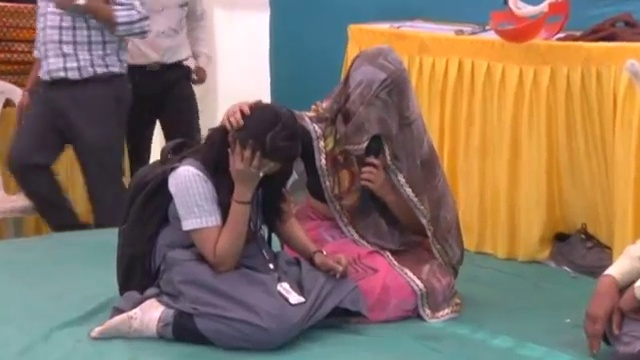helmet_off: (221, 98, 310, 191), (340, 48, 419, 141)
person: (87, 99, 371, 348), (300, 47, 463, 322), (3, 0, 141, 233), (115, 0, 217, 184), (582, 248, 640, 352)
